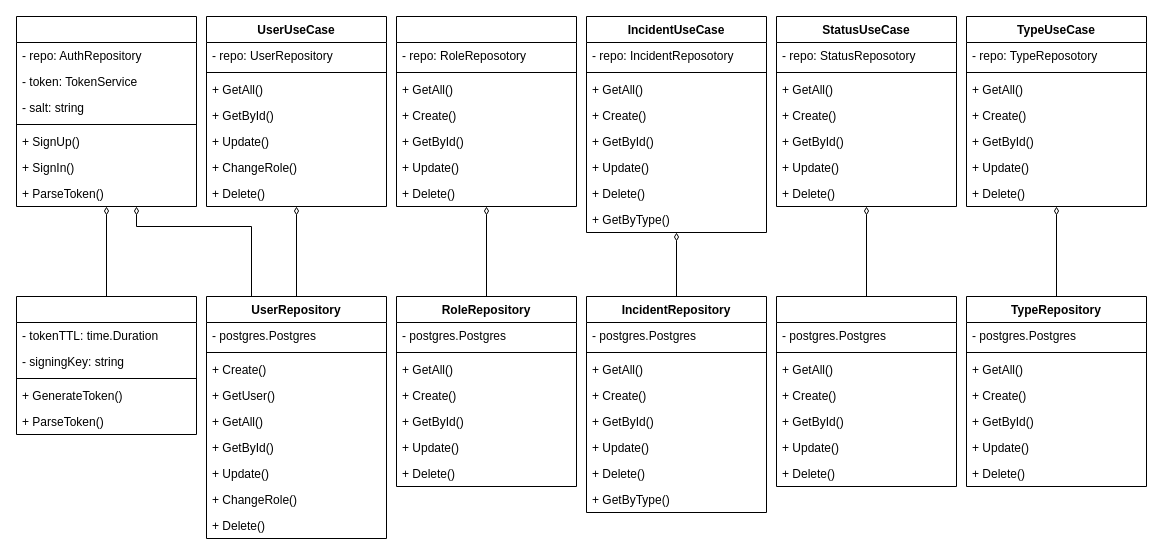
The diagram is 1163 pixels wide and 555 high, and some of its shapes have lost their labels. Here are the shapes that lost their labels. From the top down, the box of each, then its label:
(16, 16, 196, 206): AuthUseCase
(396, 16, 576, 206): RoleUseCase
(16, 296, 196, 434): TokenService
(776, 296, 956, 486): StatusRepository
